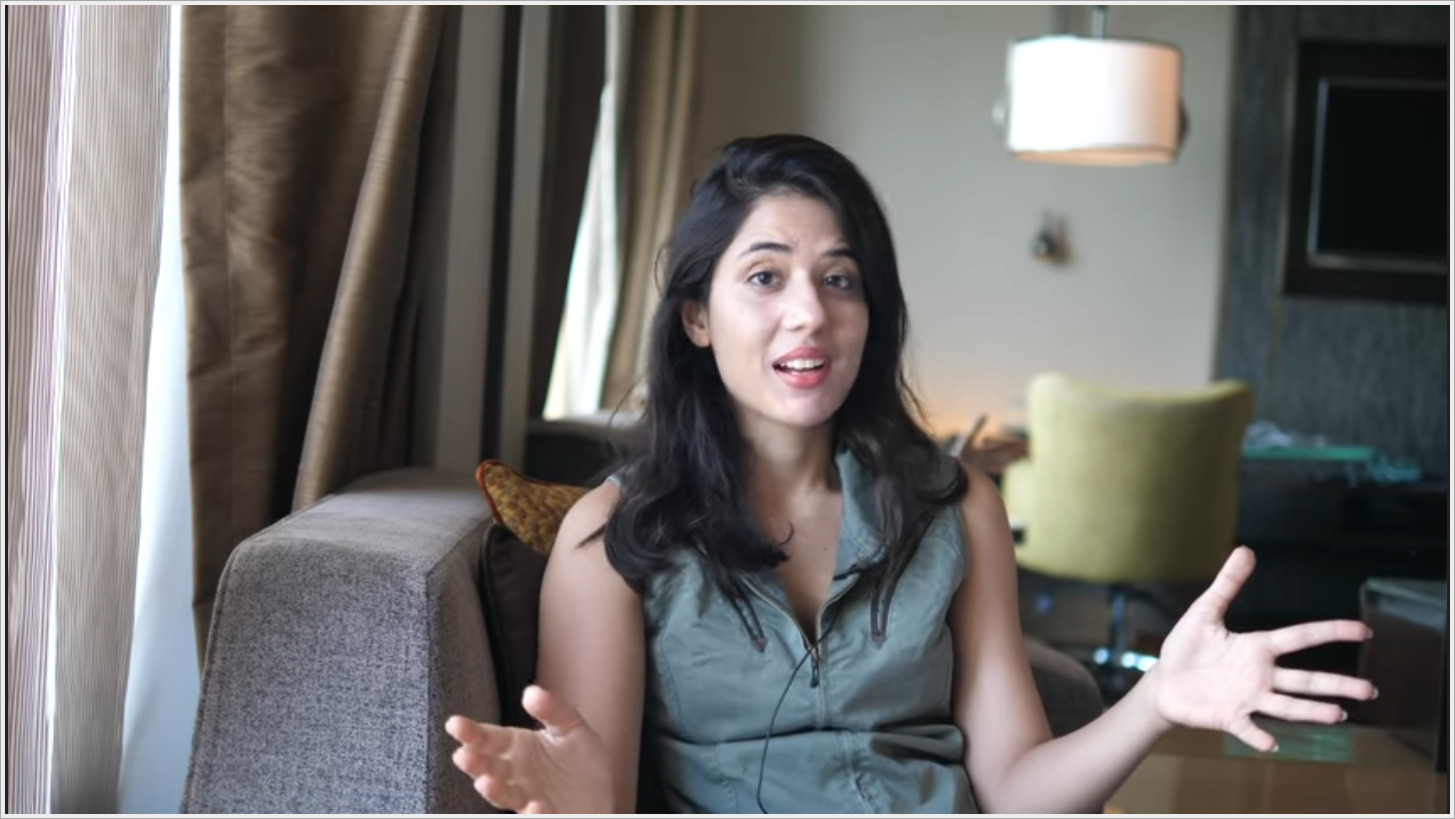hand: (1150, 541, 1389, 764), (442, 678, 626, 814)
